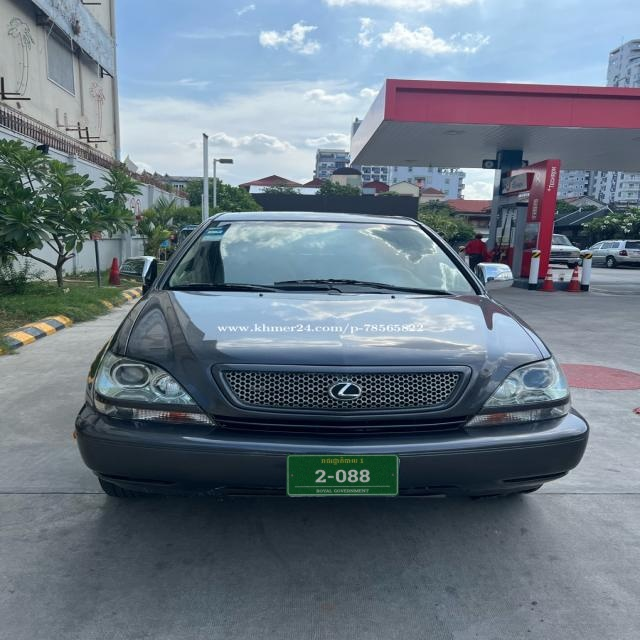Plate Number: (286, 454, 399, 497)
